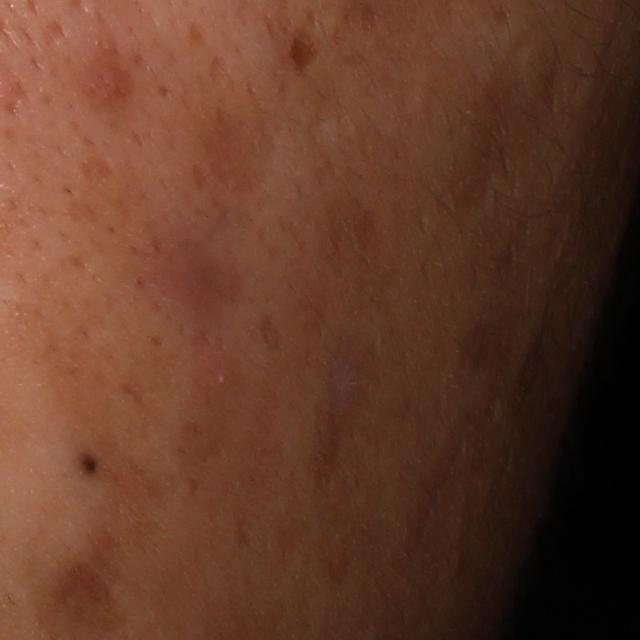atrophic_scar: (286, 30, 321, 76), (74, 153, 119, 185)
nevus: (77, 447, 103, 475)
